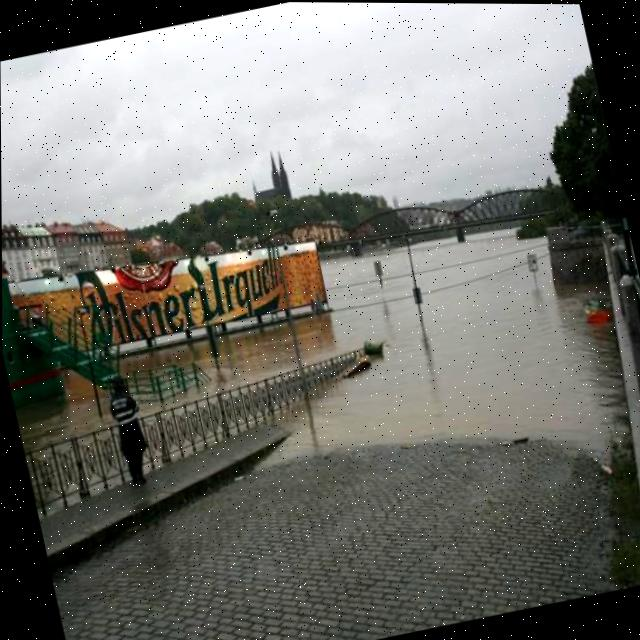civilian: (102, 370, 159, 492)
